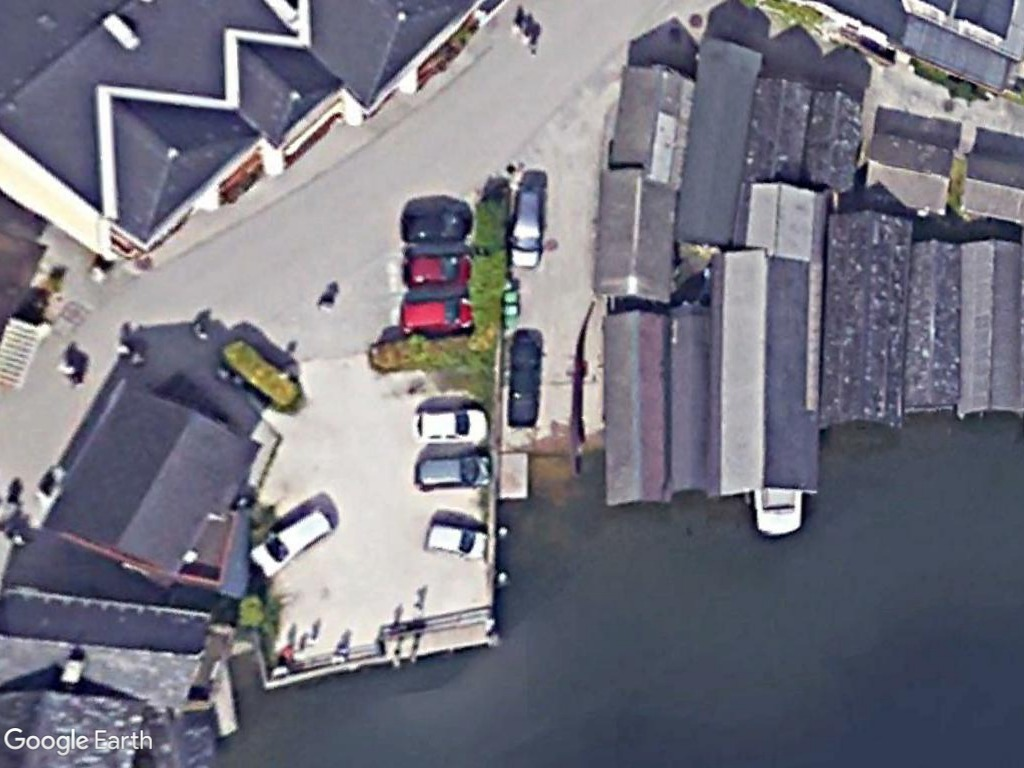car: (243, 500, 335, 581), (502, 176, 547, 274), (410, 446, 498, 496), (400, 202, 479, 248), (410, 405, 493, 448), (398, 245, 477, 289), (419, 518, 495, 562)
